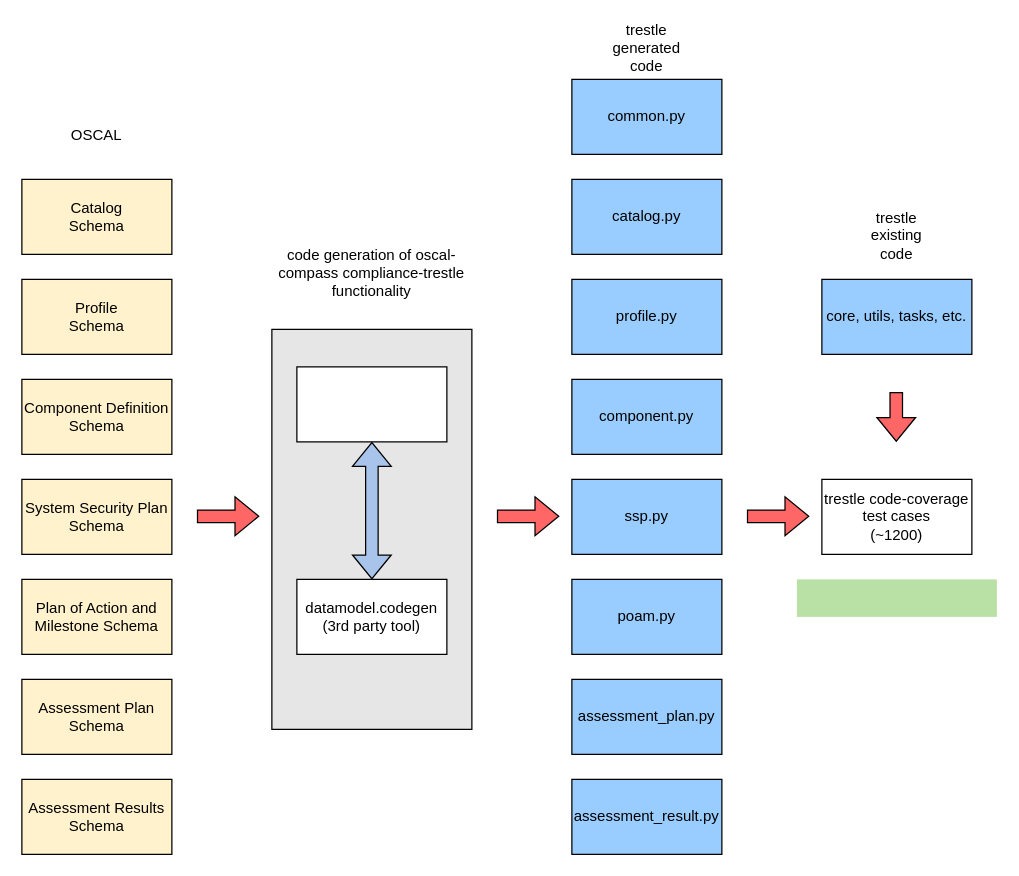
The diagram is 1019 pixels wide and 876 high, and some of its shapes have lost their labels. The box of each missing label's shape, as (x1, y1, x2, y2) in pixels:
Goal: zero errors/failures: (796, 579, 996, 616)
trestle gen_oscal.py: (296, 366, 447, 442)
